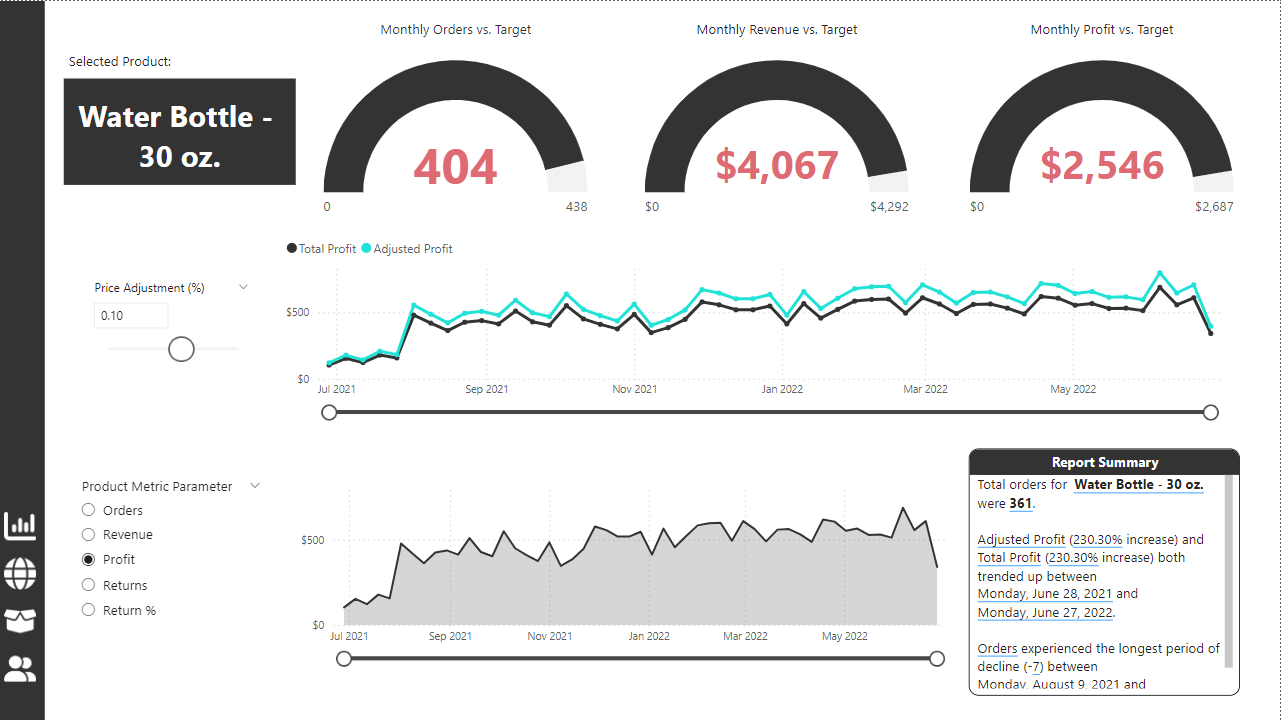

The dashboard page shown, as its layout file describes it:
{"tool":"powerbi","page":{"name":"Product Detail","canvas":[1280,720],"ordinal":2},"visuals":[{"type":"shape","box":[0,0,45,720],"z":0},{"type":"actionButton","box":[0,505,45.2,40.4],"z":0,"group":"g1"},{"type":"gauge","title":"Monthly Orders vs. Target","fields":{"Y":["Measure Table.Total Orders"],"MaxValue":["Measure Table.Order Target"]},"box":[318.5,18.8,274.1,223.5],"z":1000},{"type":"actionButton","box":[0,552.7,45.2,40.4],"z":1000,"group":"g1"},{"type":"gauge","title":"Monthly Profit vs. Target","fields":{"Y":["Measure Table.Total Profit"],"MaxValue":["Measure Table.Profit Target"]},"box":[965.4,18.8,274.1,223.5],"z":2000},{"type":"actionButton","box":[0,600.4,45.2,40.4],"z":2000,"group":"g1"},{"type":"gauge","title":"Monthly Revenue vs. Target","fields":{"Y":["Measure Table.Total Revenue"],"MaxValue":["Measure Table.Revenue Target"]},"box":[639.5,18.8,274.1,223.5],"z":3000},{"type":"actionButton","box":[0,648.1,45.2,40.4],"z":3000,"group":"g1"},{"type":"lineChart","title":"Profit Trending","fields":{"Category":["Calendar Lookup.Date Hierarchy.Start of Year","Calendar Lookup.Date Hierarchy.Start of Month","Calendar Lookup.Date Hierarchy.Start of Week","Calendar Lookup.Date Hierarchy.Date"],"Y":["Measure Table.Total Profit","Measure Table.Adjusted Profit"]},"box":[281.3,227.4,958.7,194.4],"z":4000},{"type":"areaChart","title":"Returns Trending","fields":{"Y":["Measure Table.Total Profit"],"Category":["Calendar Lookup.Date Hierarchy.Start of Year","Calendar Lookup.Date Hierarchy.Start of Month","Calendar Lookup.Date Hierarchy.Start of Week","Calendar Lookup.Date Hierarchy.Date"]},"box":[295.9,473.2,670.1,194.4],"z":5000},{"type":"card","fields":{"Values":["Min(Product Lookup.ProductName)"]},"box":[63.6,77,232.3,106.4],"z":6000},{"type":"textbox","box":[63.6,46.5,121.1,30.6],"z":7000},{"type":"group","id":"g1","title":"Navigation Buttons","box":[0,505,45.2,183.4],"z":8000},{"type":"slicer","fields":{"Values":["Price Adjustment (%).Price Adjustment (%)"]},"box":[80.7,273.9,179.8,100.3],"z":9000},{"type":"slicer","fields":{"Values":["Product Metric Parameter.Product Metric Parameter"]},"box":[68.5,470.8,204.2,196.9],"z":10000},{"type":"textbox","title":"Report Summary","box":[968.5,447.6,271.5,247],"z":11000}]}

Visuals, with their boxes on the page's 1280x720 design canvas (x1, y1, x2, y2). These are canvas units, not pixel positions in the 1281x720 screenshot, which may show the page scaled, cropped or inside an application window:
shape: rect(0, 0, 45, 720)
actionButton: rect(0, 505, 45, 545)
"Monthly Orders vs. Target" gauge: rect(318, 19, 593, 242)
actionButton: rect(0, 553, 45, 593)
"Monthly Profit vs. Target" gauge: rect(965, 19, 1240, 242)
actionButton: rect(0, 600, 45, 641)
"Monthly Revenue vs. Target" gauge: rect(640, 19, 914, 242)
actionButton: rect(0, 648, 45, 688)
"Profit Trending" lineChart: rect(281, 227, 1240, 422)
"Returns Trending" areaChart: rect(296, 473, 966, 668)
card - Min(Product Lookup.ProductName): rect(64, 77, 296, 183)
textbox: rect(64, 46, 185, 77)
"Navigation Buttons" group: rect(0, 505, 45, 688)
slicer - Price Adjustment (%).Price Adjustment (%): rect(81, 274, 260, 374)
slicer - Product Metric Parameter.Product Metric Parameter: rect(68, 471, 273, 668)
"Report Summary" textbox: rect(968, 448, 1240, 695)
